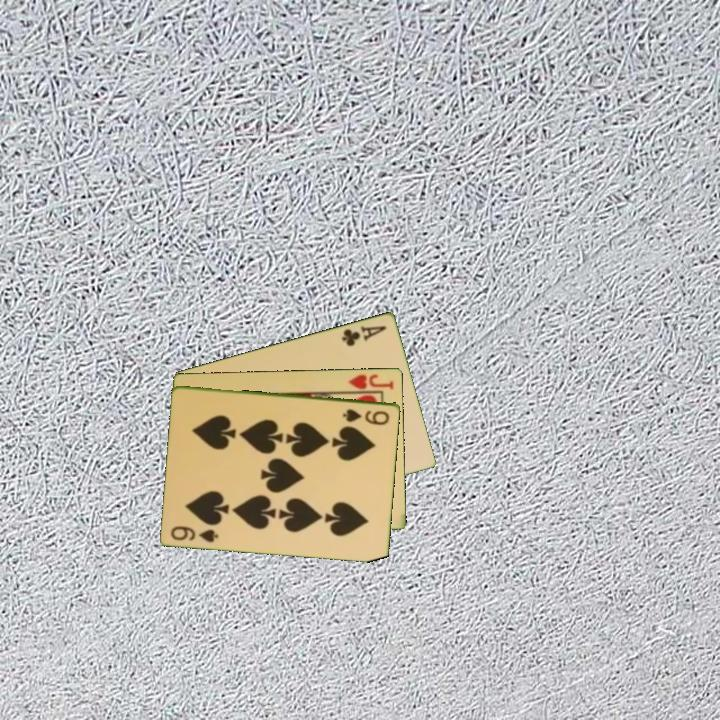9s: (168, 522, 222, 545), (339, 405, 392, 427)
Ac: (338, 322, 390, 349)
Jh: (340, 370, 397, 395)
